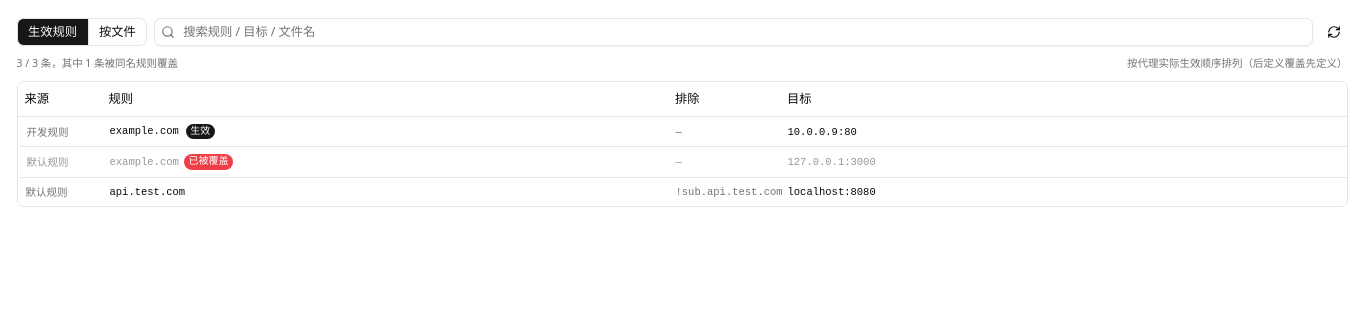
Test: RuleOverviewPanel › shows the per-file view grouped by file with enabled state and counts
The image size is (1365, 329).
Click the radio button labelled "按文件" at (118, 32), box [88,18,147,46]
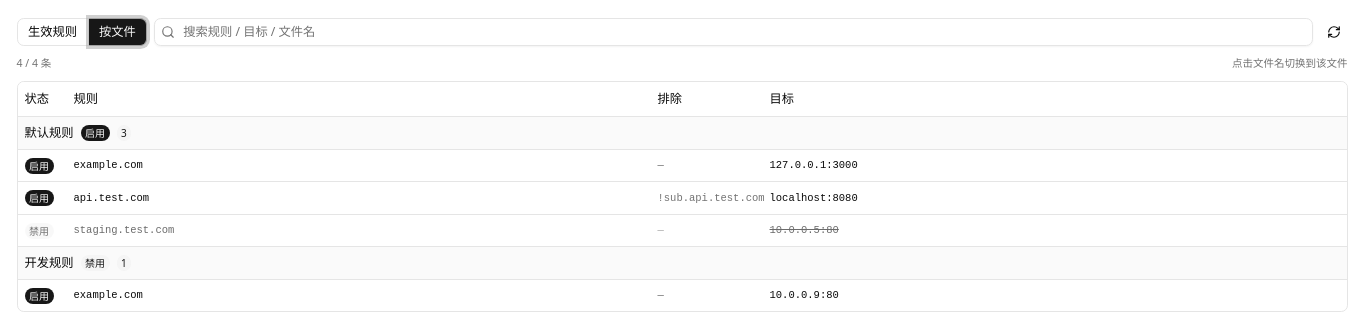
Expected: the text "开发规则" is shown, [24,254,74,271]
Expected: the text "staging.test.com" is shown, [66,214,650,246]
Expected: the text "禁用" next to "staging.test.com" is shown, [29,224,49,238]
